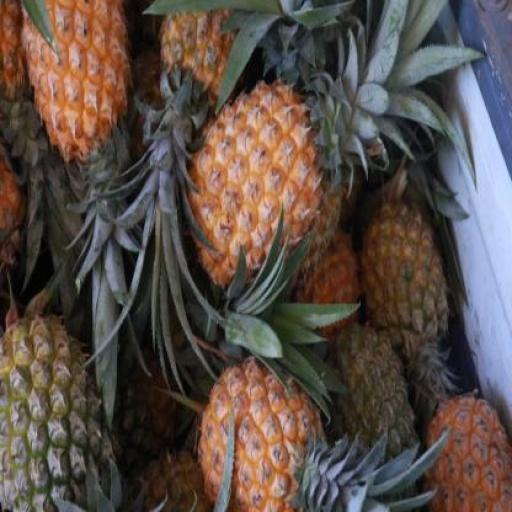------------------------------: (0, 311, 112, 511), (358, 197, 446, 369)
Pineapple - v8 v1: (185, 85, 334, 295), (197, 358, 317, 512), (22, 0, 131, 161), (428, 386, 512, 512)
